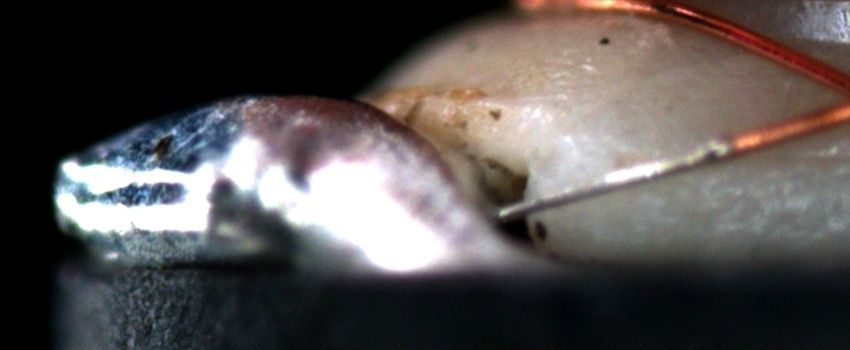DL: (740, 137, 849, 184)
TS: (498, 140, 736, 220)
TTCW: (494, 123, 788, 219)
